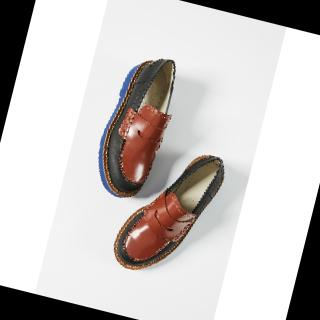loafers: (64, 42, 252, 290)
